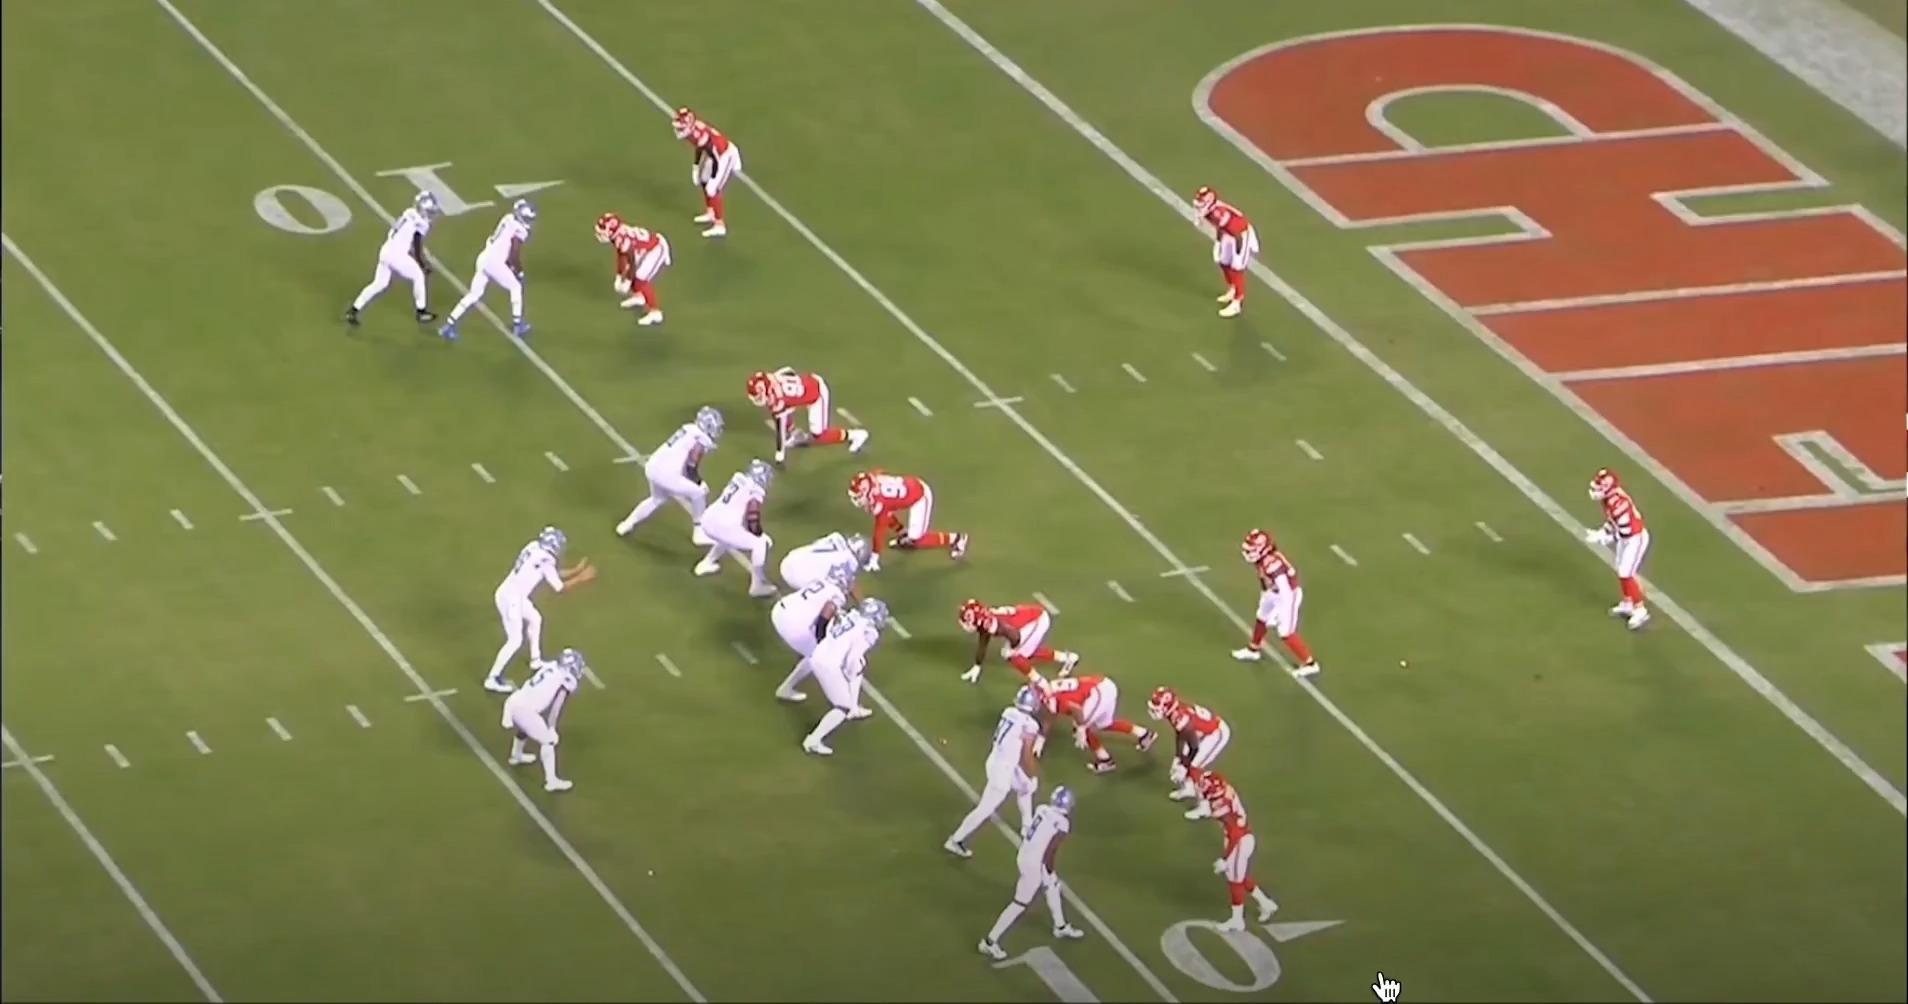player: (986, 785, 1101, 968), (948, 680, 1056, 863), (490, 525, 586, 696), (615, 408, 728, 551), (335, 190, 443, 334), (438, 199, 541, 349), (807, 601, 901, 760), (1201, 766, 1289, 935), (1024, 668, 1159, 776), (1238, 524, 1330, 682), (508, 640, 598, 791), (853, 472, 978, 572), (746, 373, 874, 470), (772, 562, 860, 703), (1590, 467, 1661, 637), (1152, 688, 1239, 825), (693, 463, 778, 599), (955, 599, 1080, 691), (666, 105, 744, 245), (1186, 181, 1258, 320), (597, 207, 677, 327), (778, 533, 873, 618)
